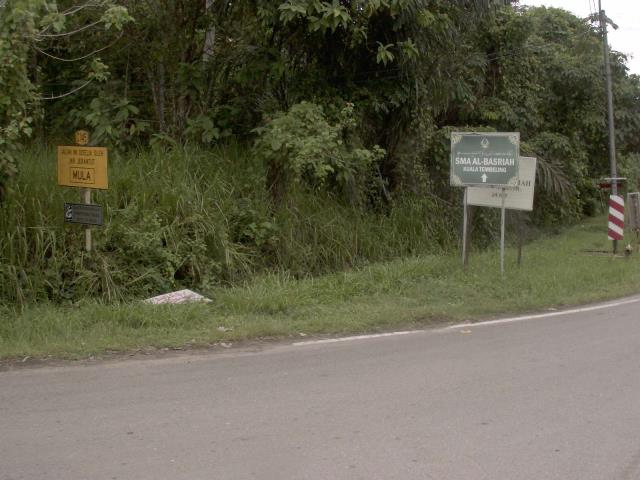traffic_sign: (601, 189, 631, 246)
